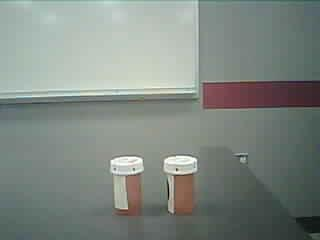Bottle D: (160, 152, 206, 220)
